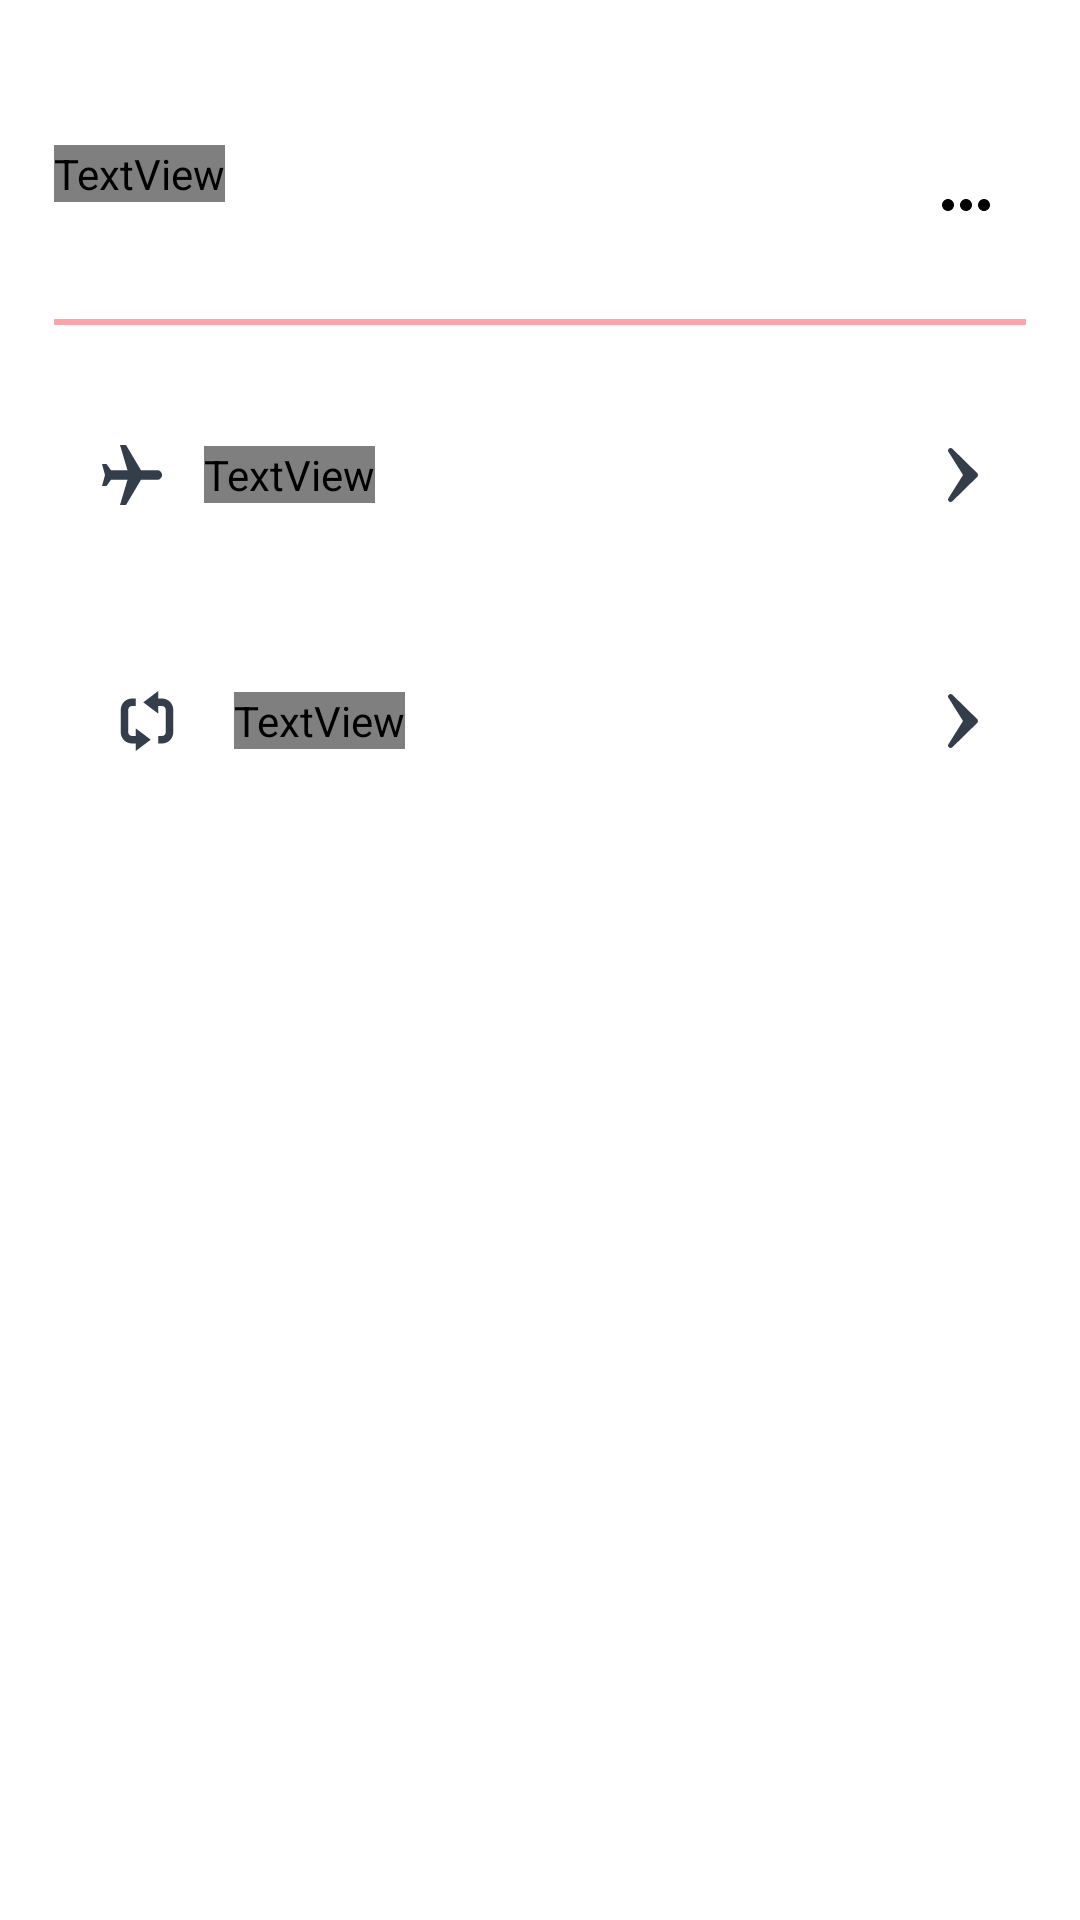

Icons on this 1080x1920 Android screen, each with the point to tap as point (x, y):
flight: point (132, 475)
